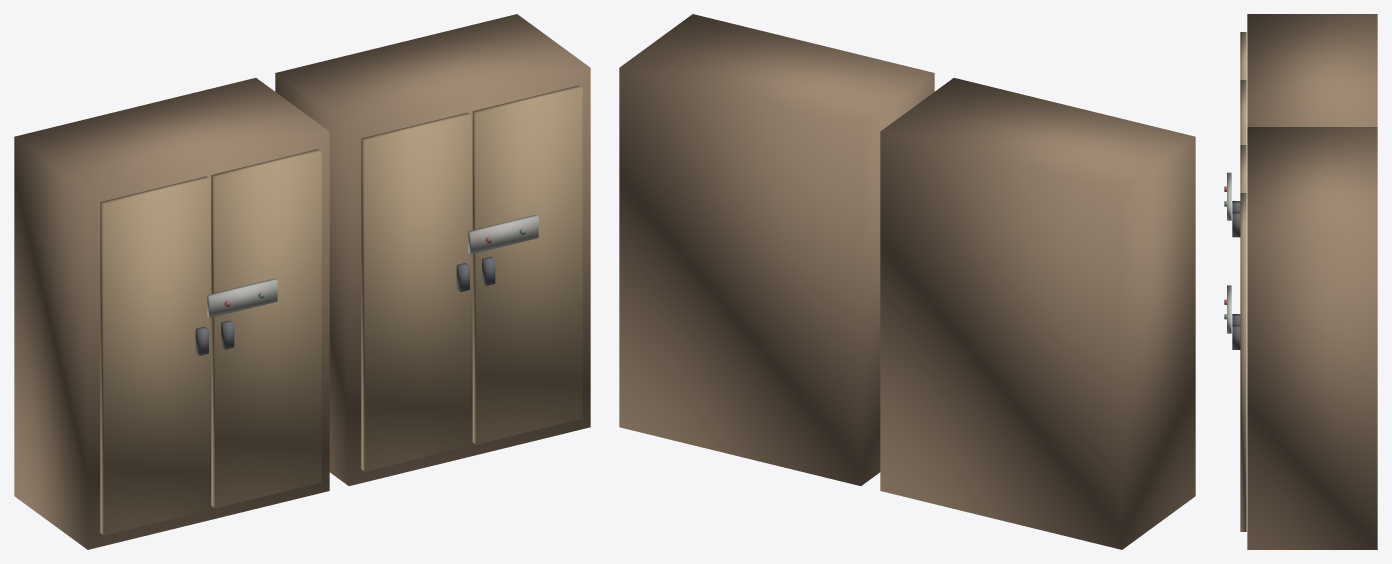
The model's file is cupboard__cluster.glb.
3 renders of one model, left to right at view 1: azimuth 30°, elevation 25°; view 2: azimuth 150°, elevation 25°; view 3: azimuth 270°, elevation 25°, orthographic. The views are drawn at different scales.
Parts seen in each view (by area): view 1: world; view 2: world; view 3: world.
Boxes of the visible parts, <box> form: world: <box>14,14,590,549</box>; world: <box>619,14,1195,549</box>; world: <box>1224,14,1377,549</box>.
Size of the model in its own units: 1.98 by 1.35 by 0.5885.
